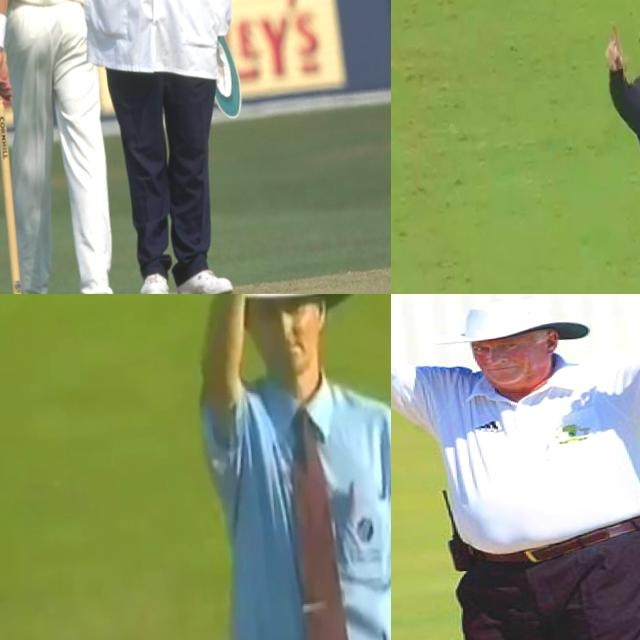Out: (0, 0, 266, 294), (173, 294, 391, 640), (560, 0, 640, 294)
Six: (391, 294, 640, 640)
